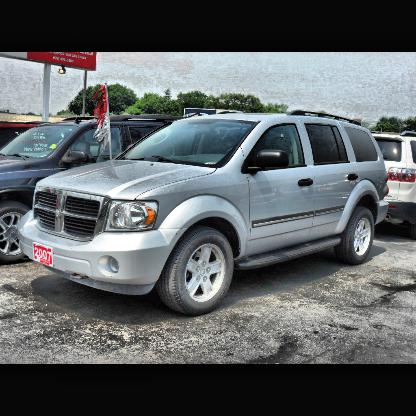Dodge Durango SUV 2007: (14, 100, 402, 340)
